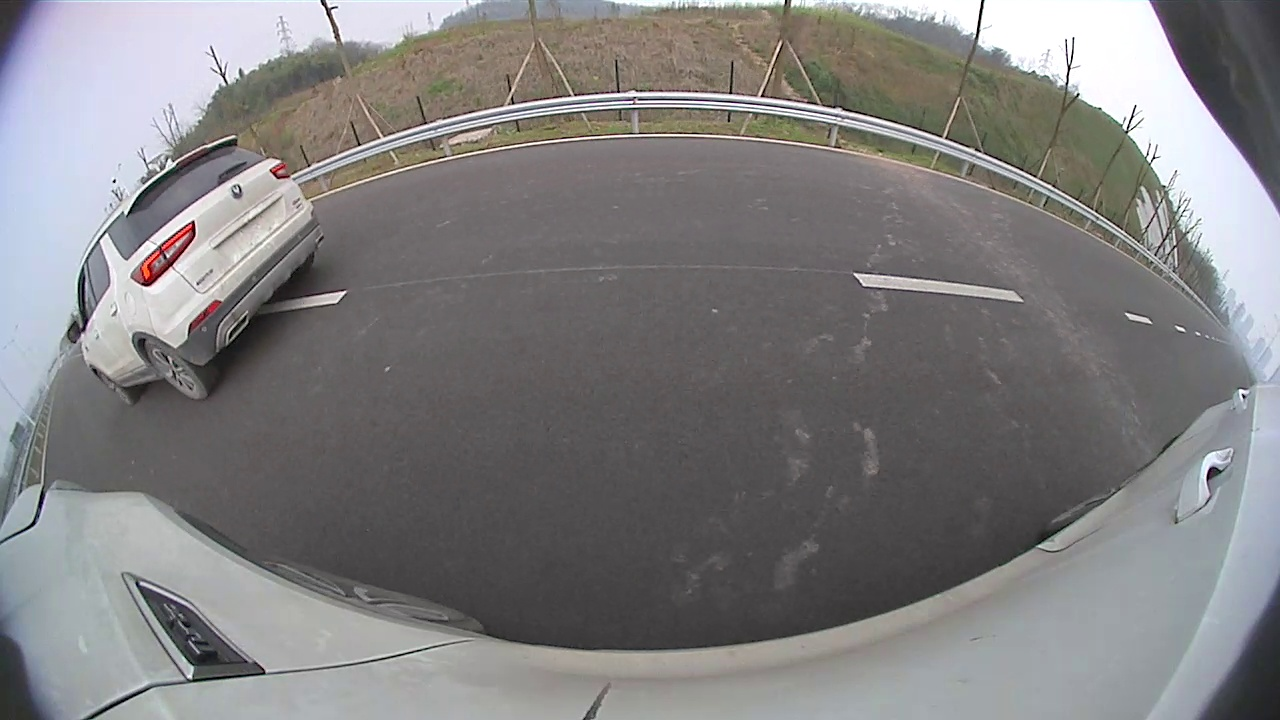car: (66, 135, 325, 407)
front: (95, 369, 135, 406)
rear: (143, 340, 209, 401)
